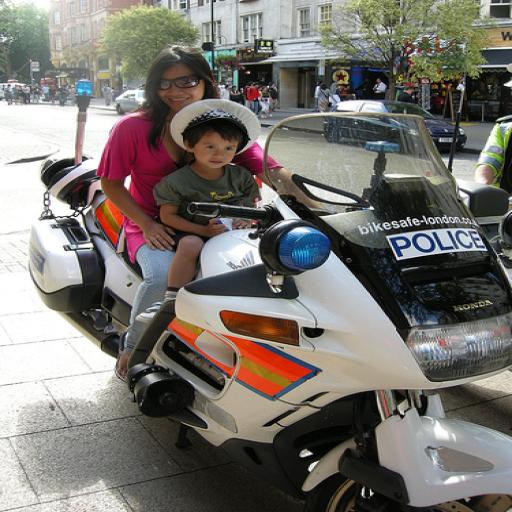person: (98, 45, 326, 381), (134, 99, 272, 325)
vehicle: (26, 78, 510, 510), (319, 97, 464, 153)
